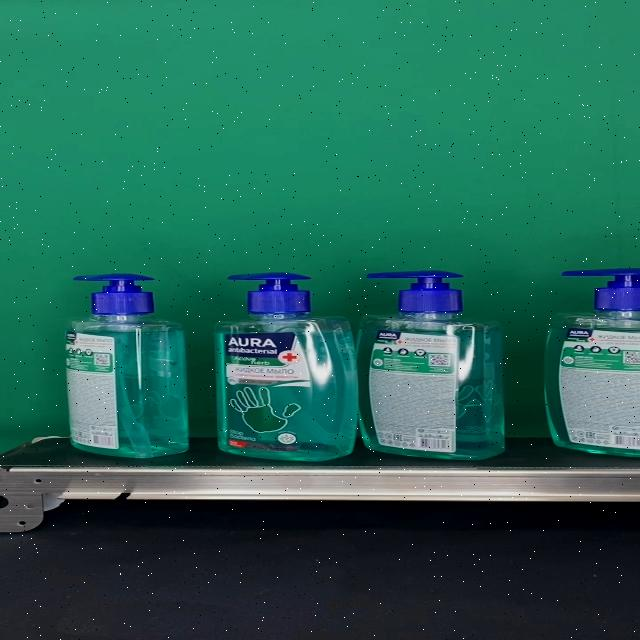Bottle: (356, 270, 505, 460), (214, 272, 358, 461), (61, 274, 190, 458)
Cap: (366, 271, 466, 313), (228, 273, 313, 314), (72, 275, 154, 315)
